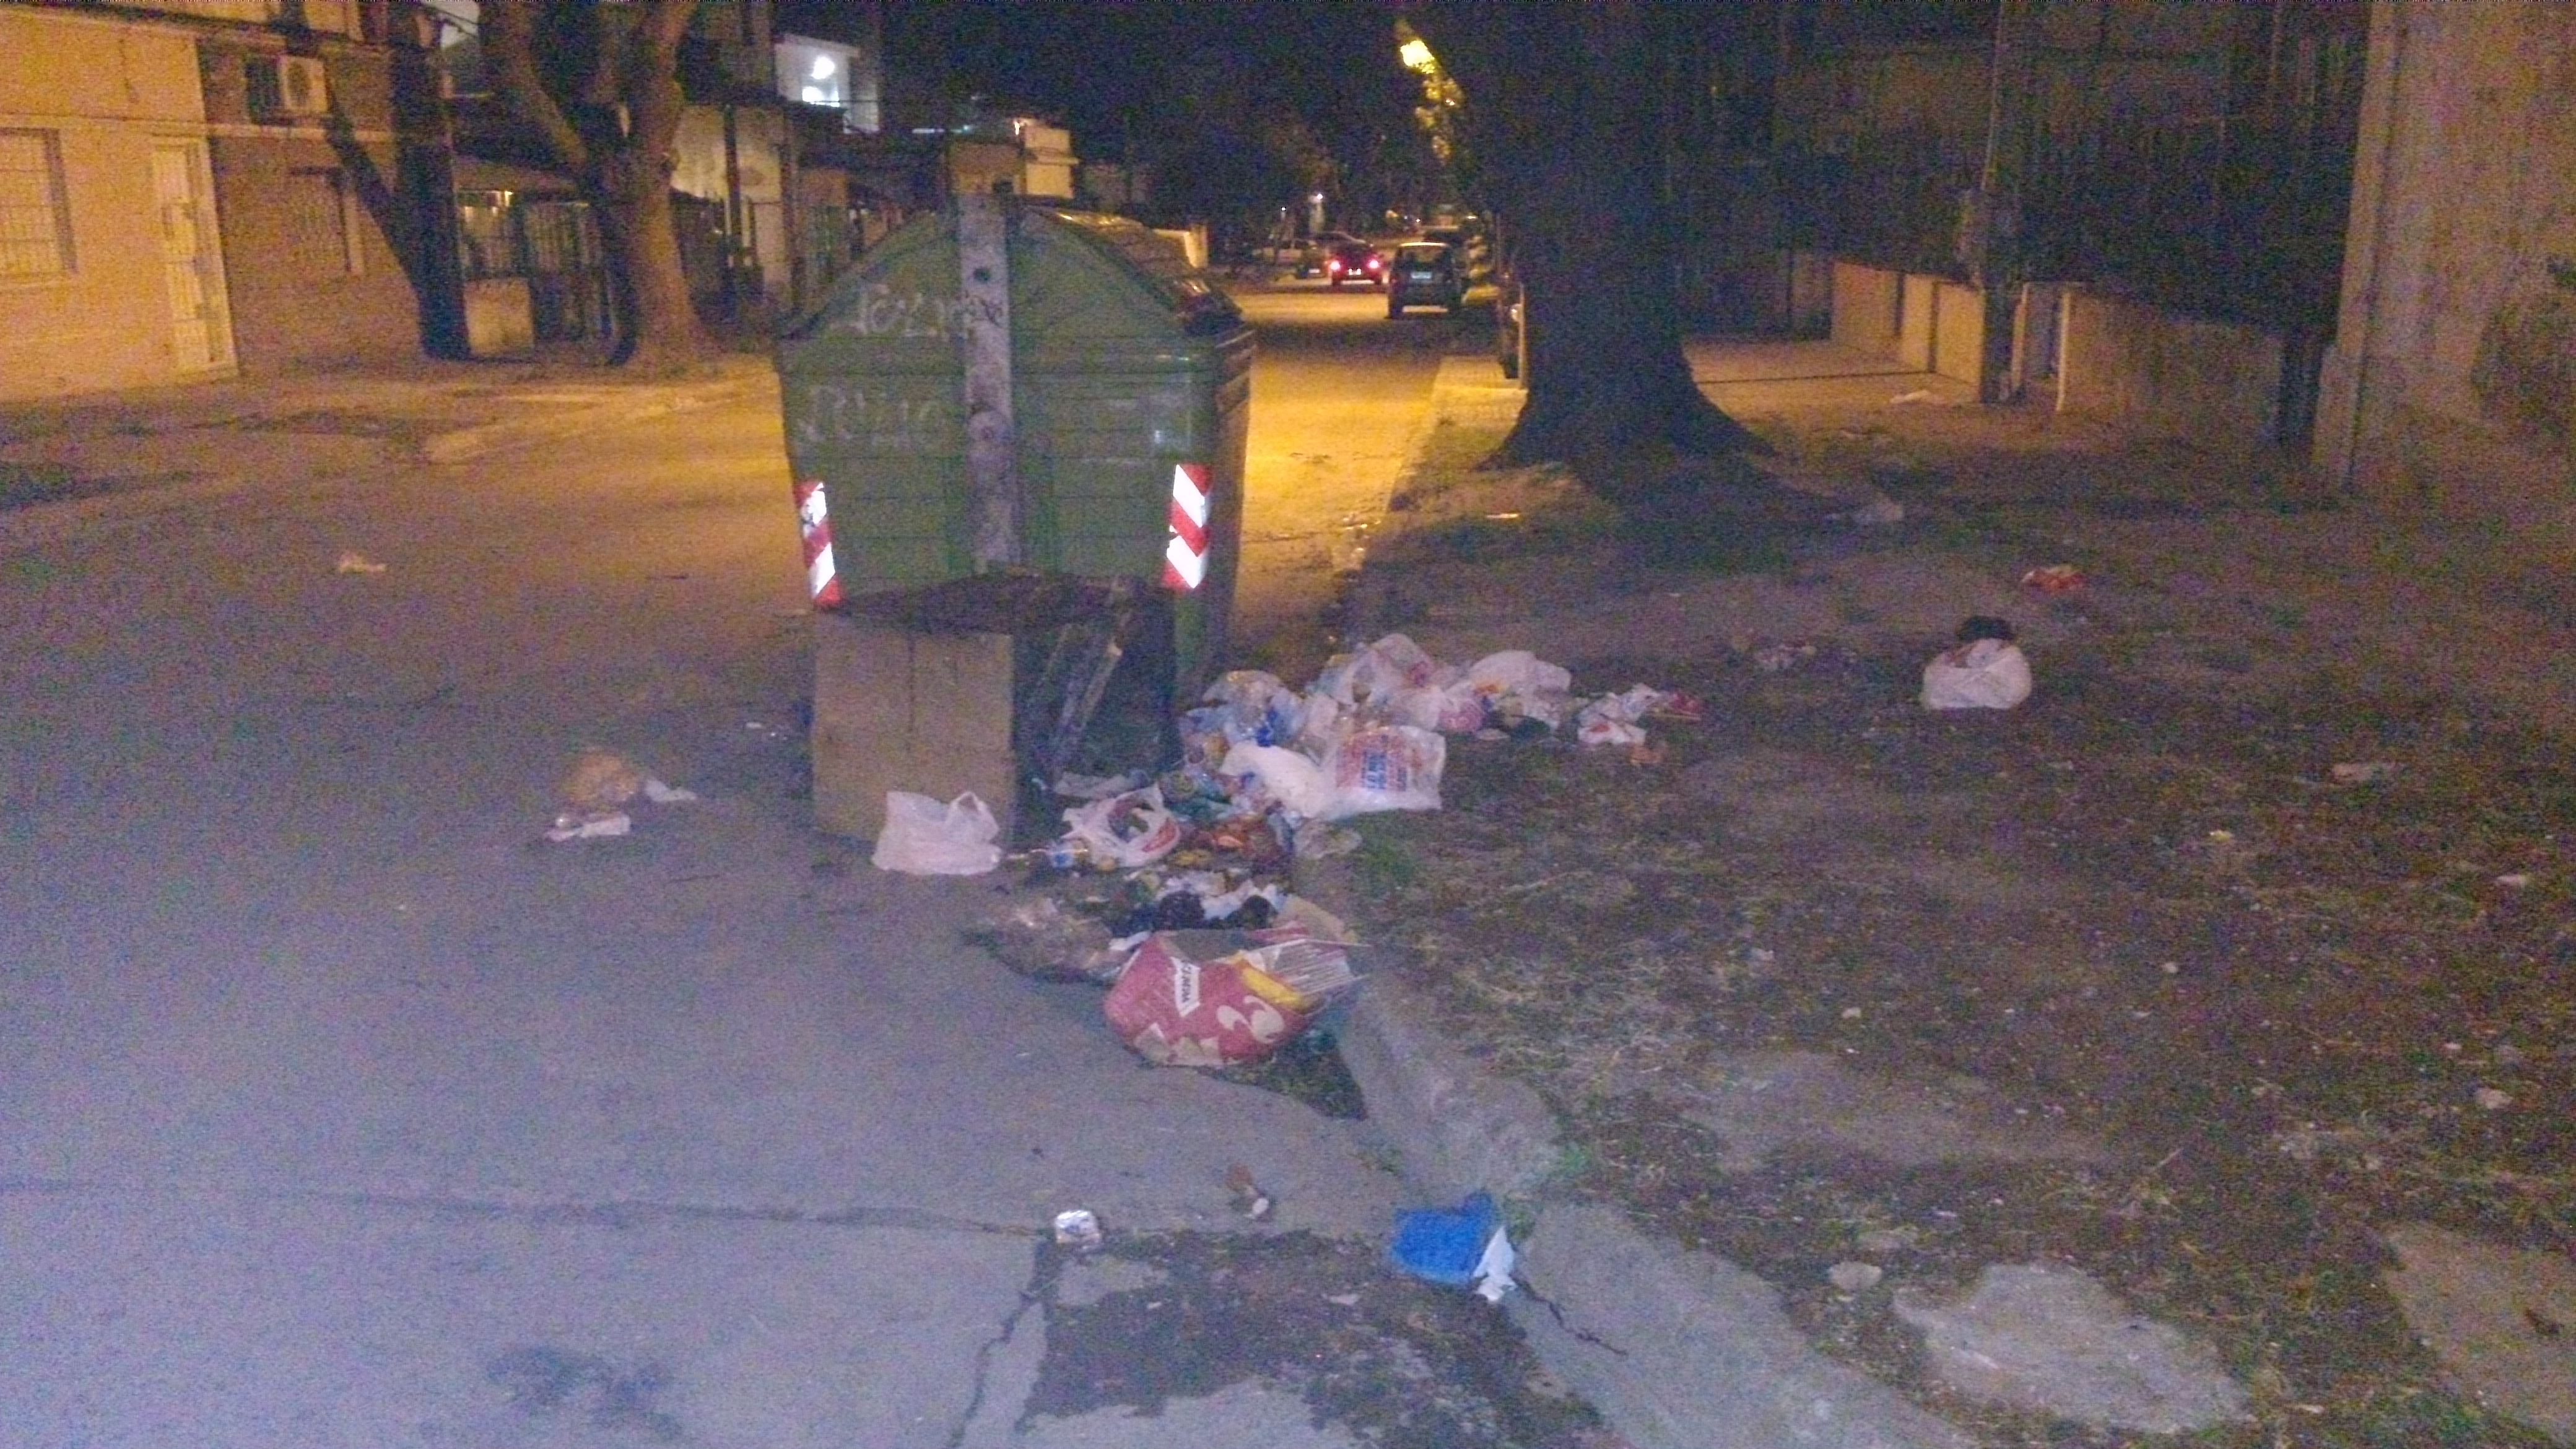container: (752, 188, 1267, 717)
